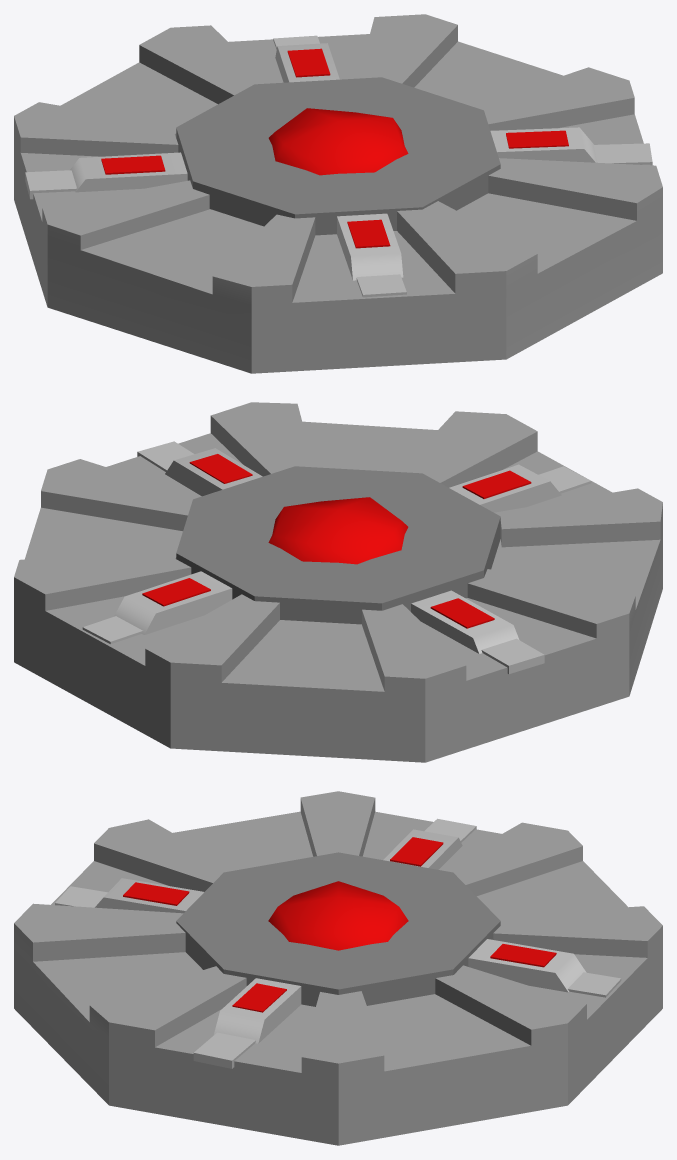
Rendered from BossModel.fbx.
3 renders of one model, top to bottom at view 1: azimuth 30°, elevation 25°; view 2: azimuth 150°, elevation 25°; view 3: azimuth 270°, elevation 25°, orthographic. The views are drawn at different scales.
Visible parts, largest first — view 1: pCylinder1, pCylinder2, pCube13, pCube7, pCube5, pCube1, pCube3, pCube2, pCube8, pCube12, pCube11, pCube9 (+2 smaller); view 2: pCylinder1, pCylinder2, pCube13, pCube3, pCube7, pCube5, pCube1, pCube8, pCube9, pCube10, pCube12, pCube11 (+3 smaller); view 3: pCylinder1, pCylinder2, pCube13, pCube3, pCube1, pCube5, pCube2, pCube7, pCube10, pCube9, pCube12, pCube11 (+3 smaller).
Boxes of the visible parts, bbox=[...] form: pCylinder1: bbox=[14, 14, 662, 373]; pCylinder2: bbox=[176, 77, 500, 235]; pCube13: bbox=[268, 108, 408, 175]; pCube7: bbox=[70, 152, 187, 192]; pCube5: bbox=[337, 213, 403, 280]; pCube1: bbox=[490, 127, 597, 162]; pCube3: bbox=[275, 43, 339, 82]; pCube2: bbox=[593, 143, 652, 165]; pCube8: bbox=[25, 170, 76, 199]; pCube12: bbox=[101, 155, 165, 174]; pCube11: bbox=[506, 130, 568, 148]; pCube9: bbox=[287, 48, 330, 77]; pCylinder1: bbox=[14, 402, 662, 762]; pCylinder2: bbox=[176, 466, 500, 624]; pCube13: bbox=[268, 497, 408, 564]; pCube3: bbox=[114, 571, 232, 634]; pCube7: bbox=[411, 590, 519, 653]; pCube5: bbox=[449, 464, 561, 512]; pCube1: bbox=[165, 448, 262, 496]; pCube8: bbox=[481, 638, 544, 673]; pCube9: bbox=[142, 578, 210, 606]; pCube10: bbox=[462, 470, 531, 498]; pCube12: bbox=[430, 598, 494, 628]; pCube11: bbox=[189, 454, 252, 483]; pCylinder1: bbox=[14, 791, 662, 1145]; pCylinder2: bbox=[176, 852, 500, 1006]; pCube13: bbox=[268, 881, 408, 950]; pCube3: bbox=[468, 939, 586, 992]; pCube1: bbox=[214, 978, 301, 1043]; pCube5: bbox=[95, 878, 203, 913]; pCube2: bbox=[193, 1032, 255, 1068]; pCube7: bbox=[383, 829, 462, 869]; pCube10: bbox=[123, 882, 189, 905]; pCube9: bbox=[490, 944, 556, 967]; pCube12: bbox=[390, 837, 443, 866]; pCube11: bbox=[232, 983, 286, 1012].
Size of the model in its own units: 4 by 0.7612 by 4.
